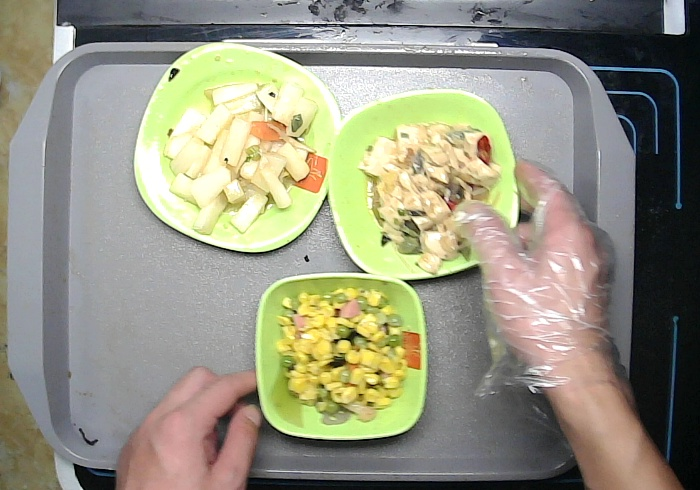SHKJ-Lv_Se_Cai_Die: (324, 88, 523, 282)
SHKJ-Lv_Se_Si_Fang_Cai_Die: (132, 41, 342, 252)
SHKJ-Lv_Se_Xiao_Fang_Die: (252, 270, 431, 441)
